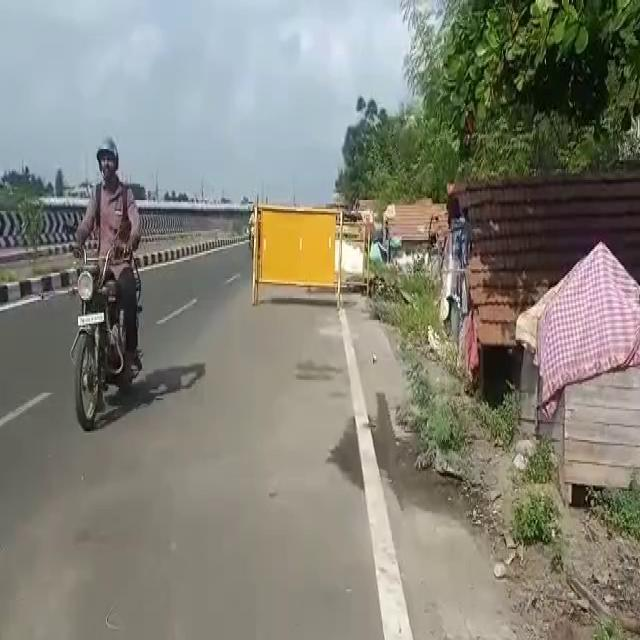fallen_object: (223, 173, 372, 335)
